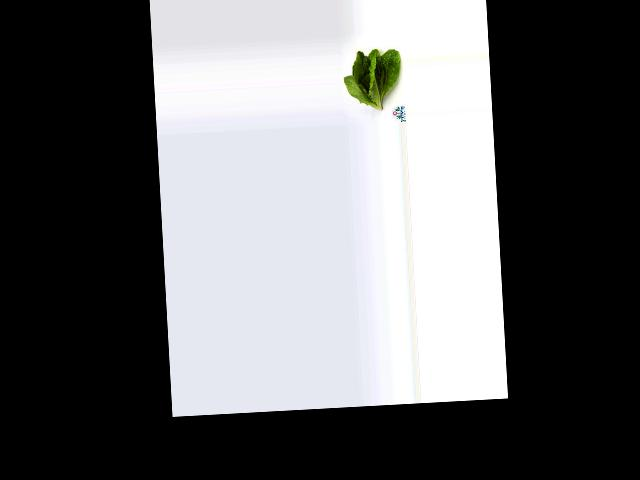lettuce: (341, 45, 402, 112)
